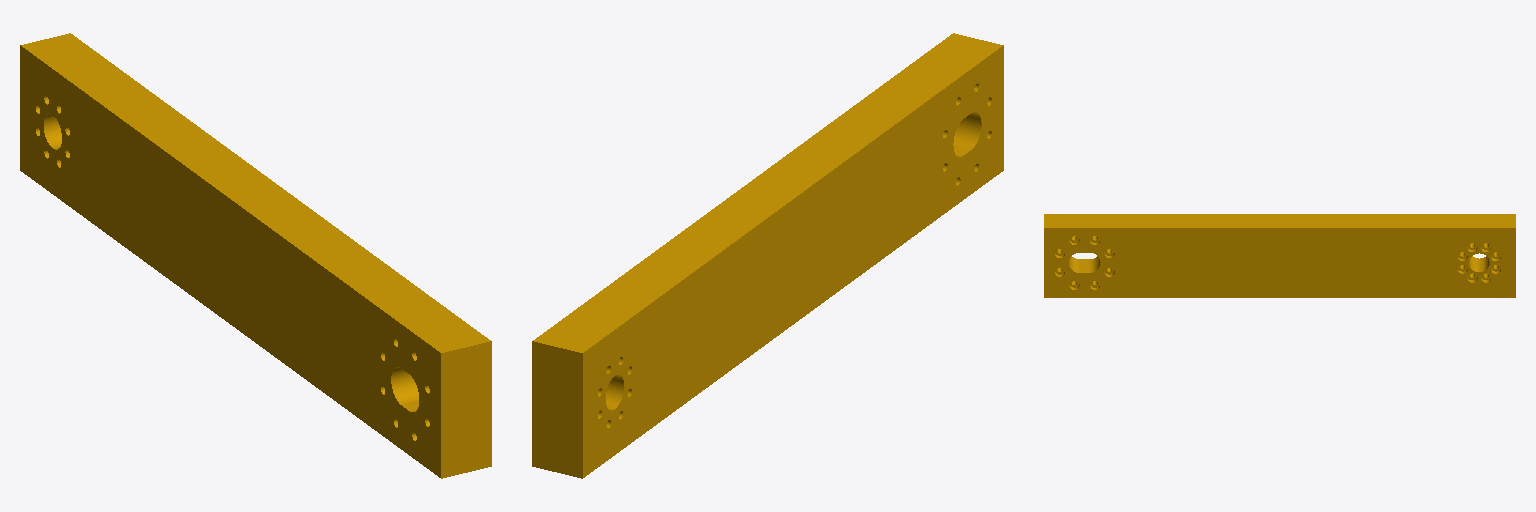
The robot description file, URDF, robot "link":
<?xml version="1.0"?>

<robot name="link">

  <!-- ******************************************************** -->
  <!-- ******************* Kinematic Chain ******************** -->
  <!-- ******************************************************** -->
  <!-- Note the 'origin' tag in the joints defines the shift and
       reorientation, i.e. the transform.  For moving joints, this
       happens before the continuous joint rotates around 'axis'. -->

  <!-- World can't take a visual element (at least in Gazebo). -->
  <link name="world"/>

  <joint name="placement" type="fixed">
    <parent link="world"/>
    <child  link="link"/>
    <origin xyz="1 1 1" rpy="0 0 -1.5708"/>
  </joint>

  <!-- LINK: Try showing an STL file. --> 
  <link name="link">
    <visual>
      <origin xyz="0.0 0.0 0.00615" rpy="0 0 0"/>
      <geometry>
        <mesh filename="package://chad/meshes/arm_box_smoothbrain(1).stl"
	      scale="0.1 0.1 0.1"/>
      </geometry>
      <material name="wood"/>
    </visual>
  </link>

  
  <!-- *************************************************** -->
  <!-- *************** Visual Link Elements ************** -->
  <!-- *************************************************** -->
  <!-- Note collada .dae files are preferred over .stl as  -->
  <!-- they specify and provide color/texture support.     -->

  <!-- Colors -->
  <material name="wood">  <color rgba="0.82 0.62 0.04 1"/>  </material>

</robot>

--- Facts derived from the render (not from the file) ---
The picture shows the robot from 3 angles, left to right: view 1: azimuth 30°, elevation 25°; view 2: azimuth 150°, elevation 25°; view 3: azimuth 270°, elevation 25°; orthographic projection.
Model link with 2 links and 1 joints (1 fixed), rooted at world, posed all joints at 0.
Links seen in each view (by area): view 1: link; view 2: link; view 3: link.
Link boxes in pixels (x1,y1,x2,y2): link: [20, 33, 491, 478]; link: [532, 33, 1003, 478]; link: [1044, 214, 1515, 297].
Bounding box of the posed robot: 3.14 × 45.6 × 7.5 m (x, y, z).
Meshes: 1 distinct files referenced, 1 mesh visuals loaded (1 binary STL).
